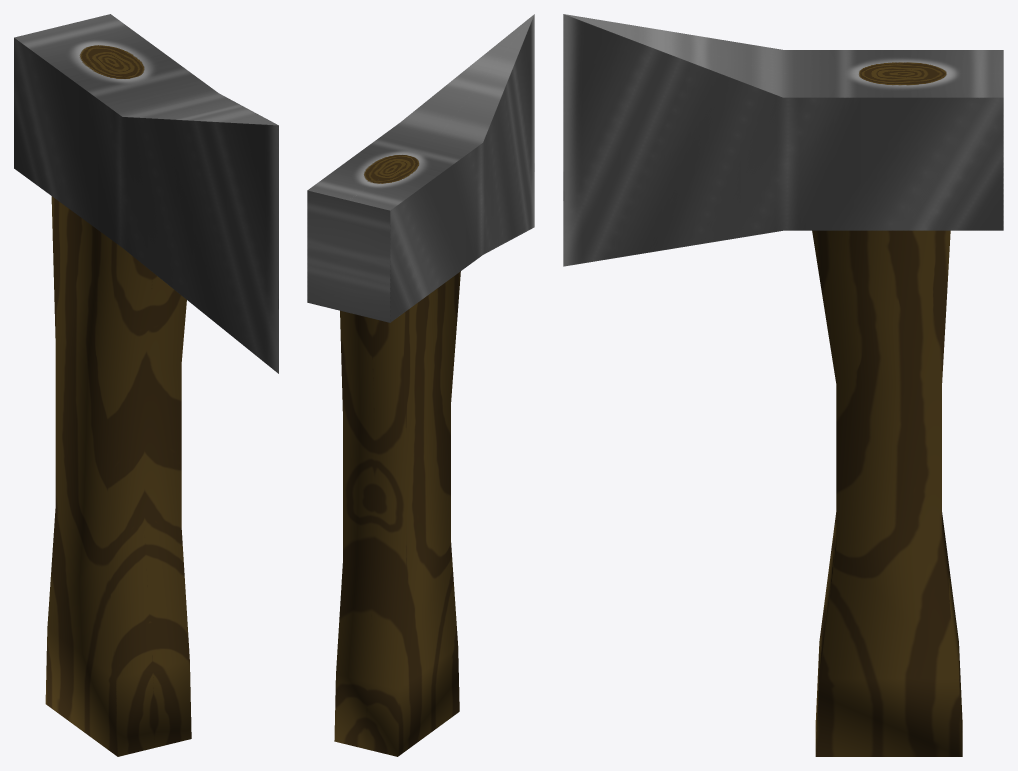
Rendered from Axe.fbx.
3 renders of one model, left to right at view 1: azimuth 30°, elevation 25°; view 2: azimuth 150°, elevation 25°; view 3: azimuth 270°, elevation 25°, orthographic. The views are drawn at different scales.
Visible parts, largest first — view 1: Axe; view 2: Axe; view 3: Axe.
Part boxes in pixels (x1,y1,x2,y2): Axe: [14, 14, 278, 756]; Axe: [307, 14, 534, 756]; Axe: [563, 14, 1003, 756].
Size of the model in its own units: 15.45 by 109 by 60.
